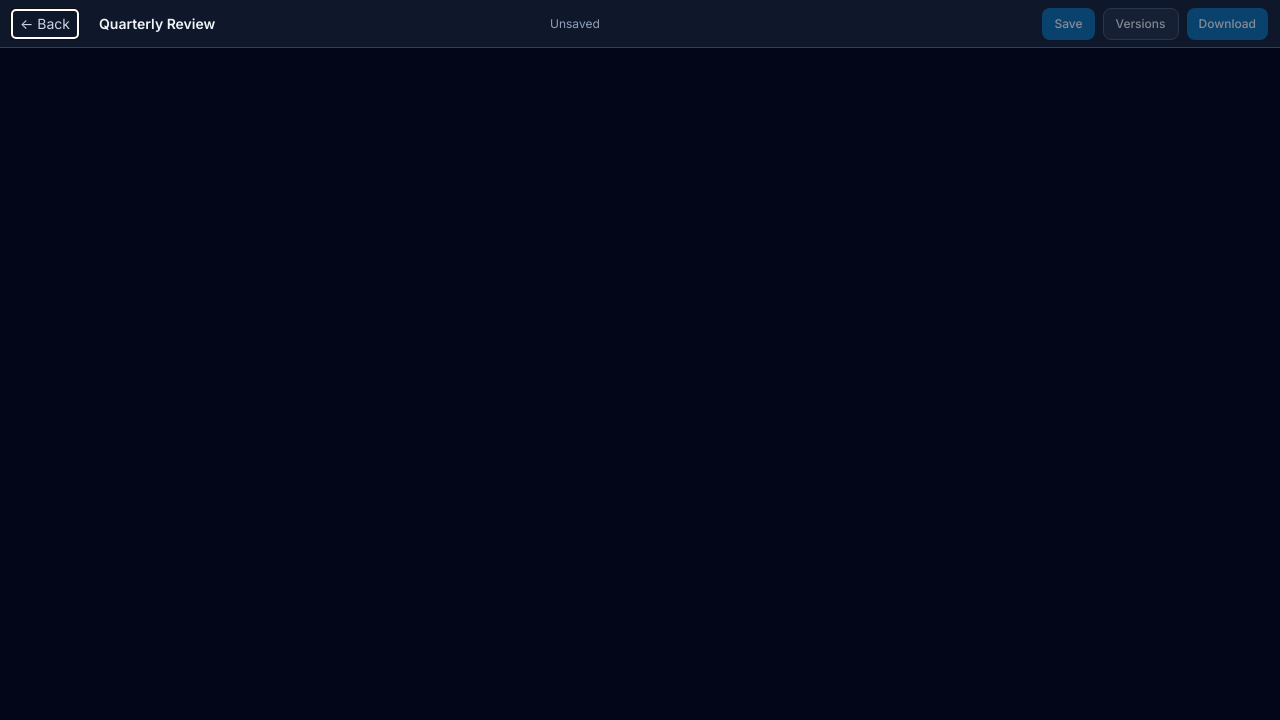
Test case: EditorPage › makes discard confirmation keyboard-modal and restores focus on Escape
Click the button "← Back" at (45, 24), box [12,10,78,38]
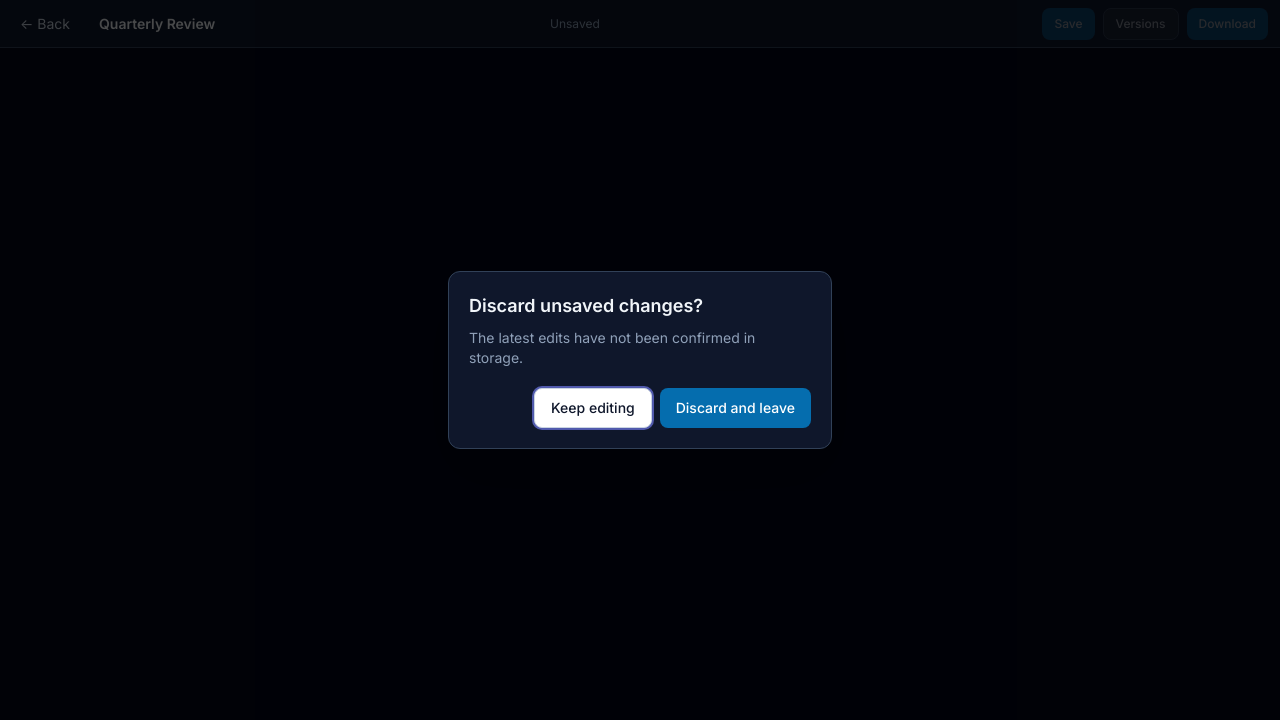
Press Tab in the button "Keep editing", box [534,388,652,428]
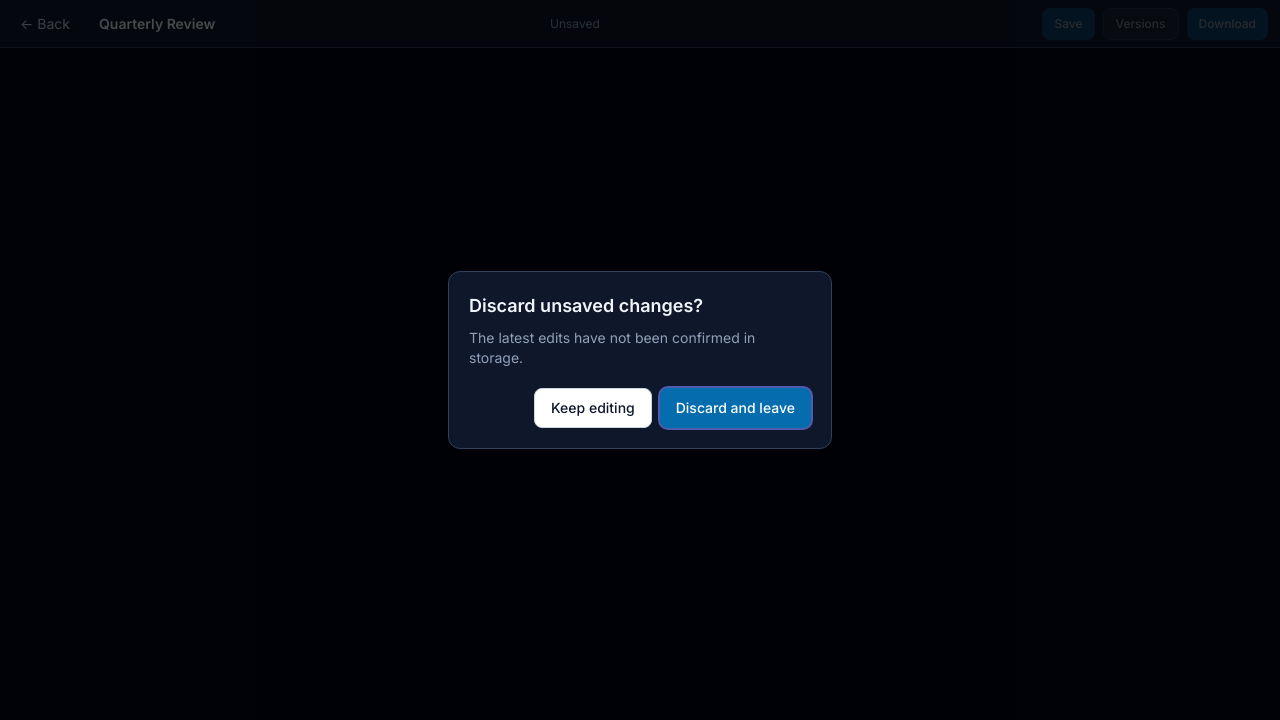
Press Tab in the button "Discard and leave", box [660,388,811,428]
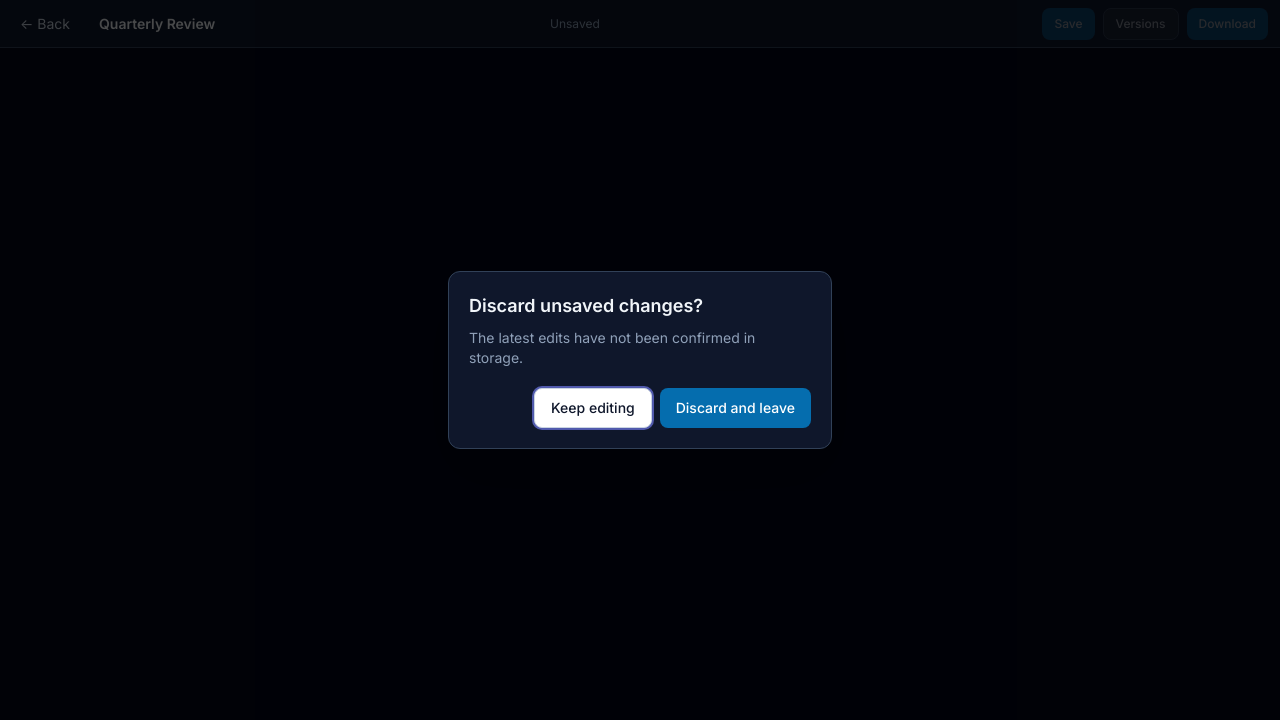
Press Escape in the dialog "Discard unsaved changes?", box [448,271,832,449]
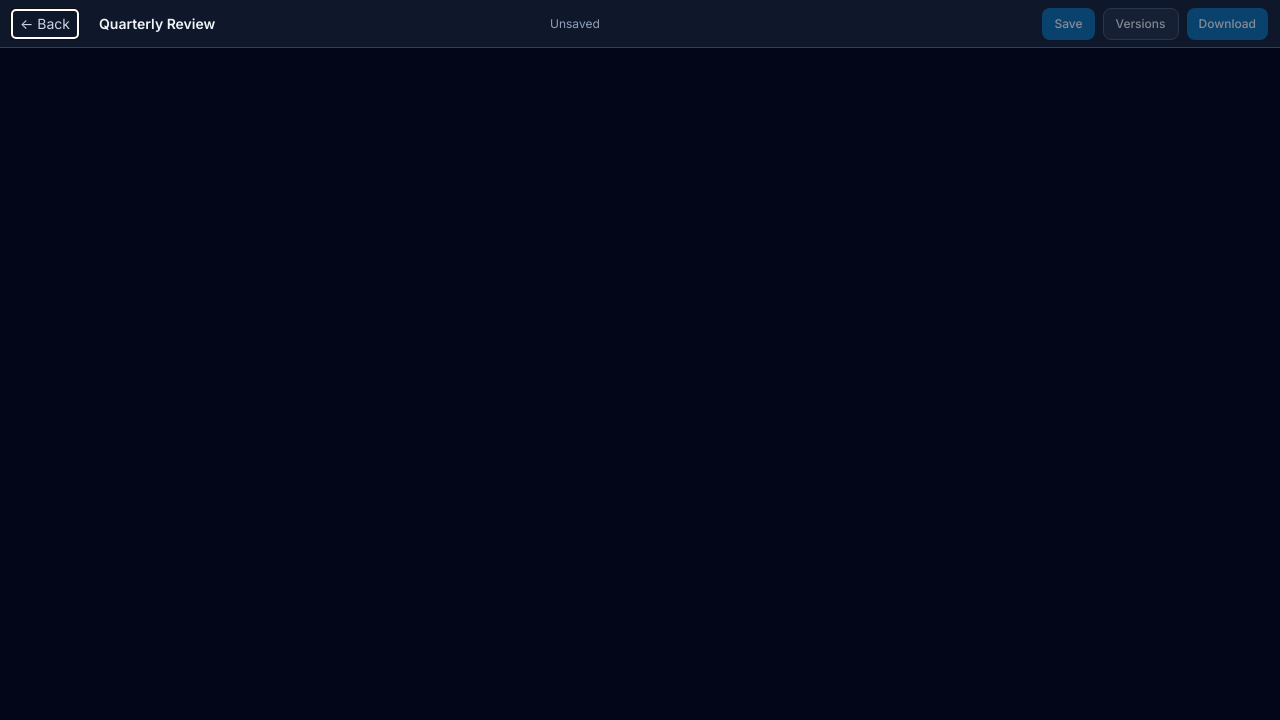
Check: the heading "Discard unsaved changes?" is gone
